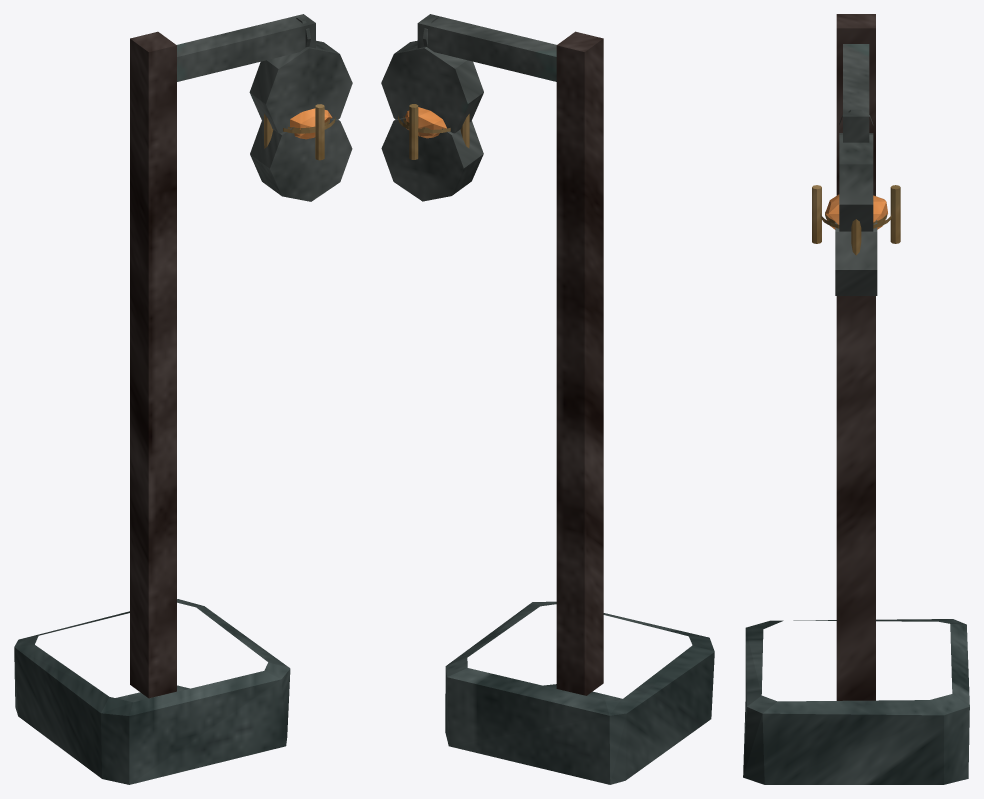
File: 0711_lantern_post_11.glb
3 renders of one model, left to right at view 1: azimuth 30°, elevation 25°; view 2: azimuth 150°, elevation 25°; view 3: azimuth 270°, elevation 25°, orthographic. The views are drawn at different scales.
Parts seen in each view (by area): view 1: wood_dark, stone_dark, iron, brass, amber; view 2: wood_dark, stone_dark, iron, brass, amber; view 3: stone_dark, wood_dark, iron, brass, amber.
Part boxes in pixels (bbox=[...]): wood_dark: bbox=[130, 31, 176, 698]; stone_dark: bbox=[14, 599, 290, 784]; iron: bbox=[177, 14, 352, 201]; brass: bbox=[264, 104, 335, 160]; amber: bbox=[290, 108, 332, 139]; wood_dark: bbox=[556, 31, 603, 695]; stone_dark: bbox=[445, 601, 714, 784]; iron: bbox=[381, 14, 556, 201]; brass: bbox=[398, 104, 469, 159]; amber: bbox=[404, 107, 446, 138]; stone_dark: bbox=[743, 619, 969, 784]; wood_dark: bbox=[836, 14, 875, 700]; iron: bbox=[835, 44, 877, 295]; brass: bbox=[812, 185, 900, 255]; amber: bbox=[825, 194, 887, 229].
Bounding box in the file's own units: 1.31 × 3.04 × 0.8635.
Materials: 5 (5 with a texture image).
